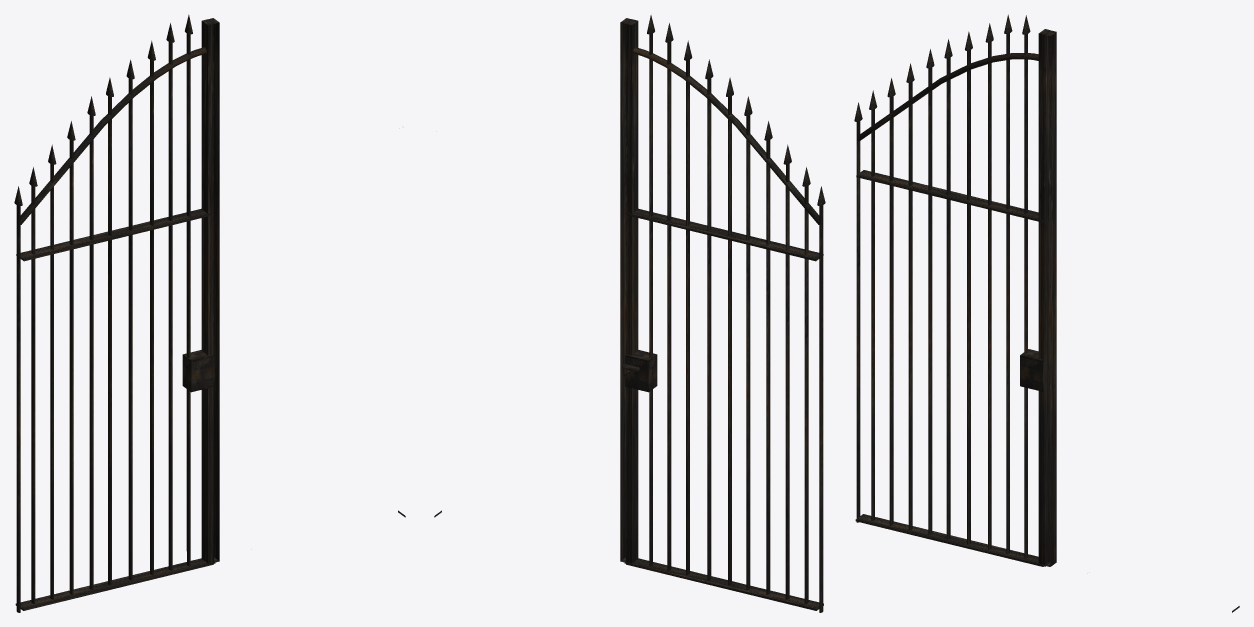
Rendered from Puerta_Der.fbx.
The picture shows the model from 3 angles, left to right: view 1: azimuth 30°, elevation 25°; view 2: azimuth 150°, elevation 25°; view 3: azimuth 330°, elevation 25°; orthographic projection.
Parts seen in each view (by area): view 1: Cylinder.001; view 2: Cylinder.001; view 3: Cylinder.001.
Boxes of the visible parts, box(x1,y1,x2,y2) form: Cylinder.001: box(14, 14, 405, 612); Cylinder.001: box(434, 15, 825, 612); Cylinder.001: box(854, 14, 1239, 612).
Bounding box in the file's own units: 515 × 706 × 33.34.
